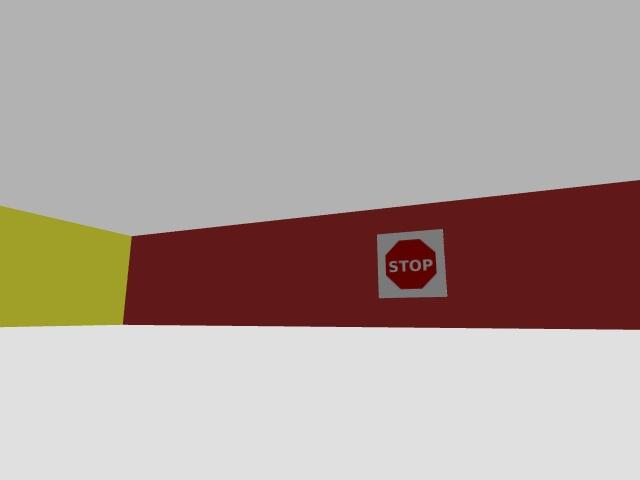stop: (379, 229, 446, 297)
